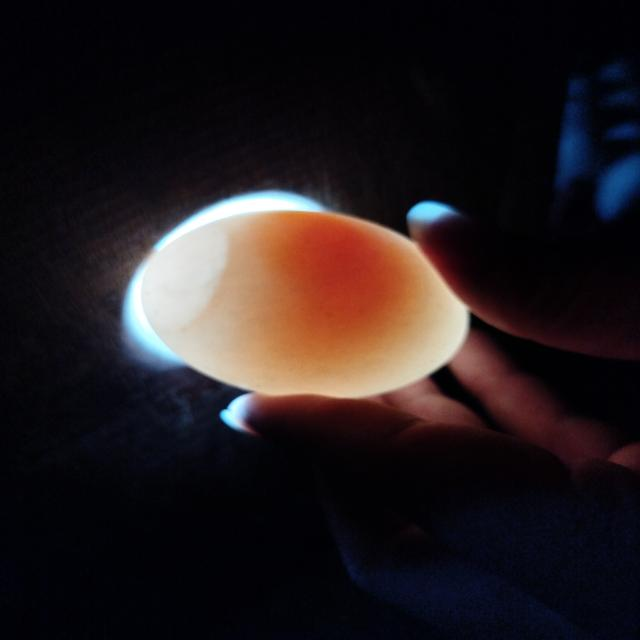Camara de Ar: (140, 224, 228, 331)
Gema Quebrada: (260, 210, 417, 367)
